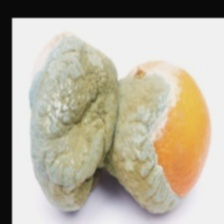orange: (8, 36, 186, 194)
